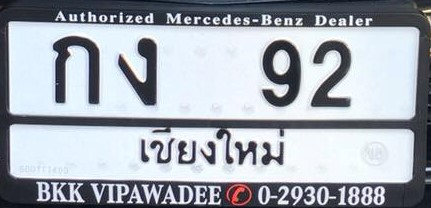txt01: (51, 33, 102, 106)
txt05: (116, 35, 159, 108)
